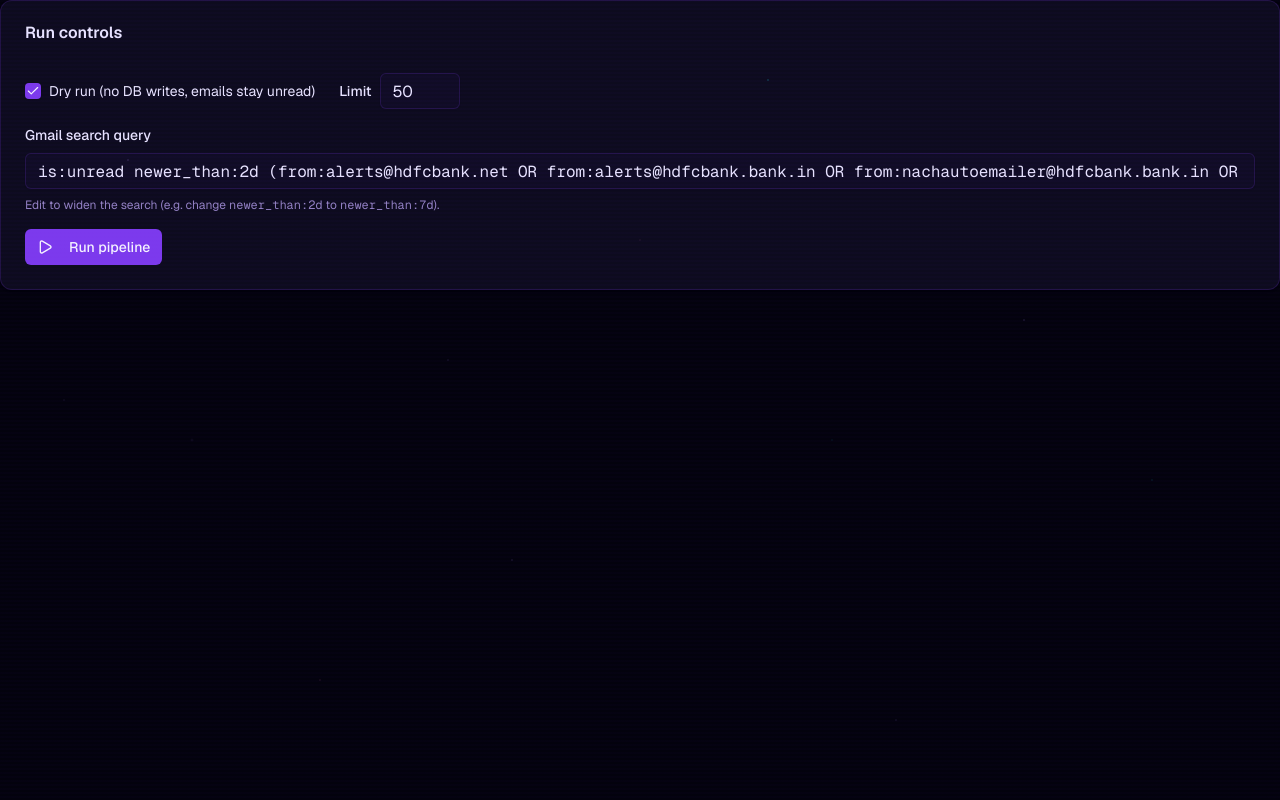
Test: DebugRunner › displays pipeline error when API returns non-OK
The width and height of the screenshot is (1280, 800).
Click the button "Run pipeline" at x=94, y=247, box 25,229 -> 162,265
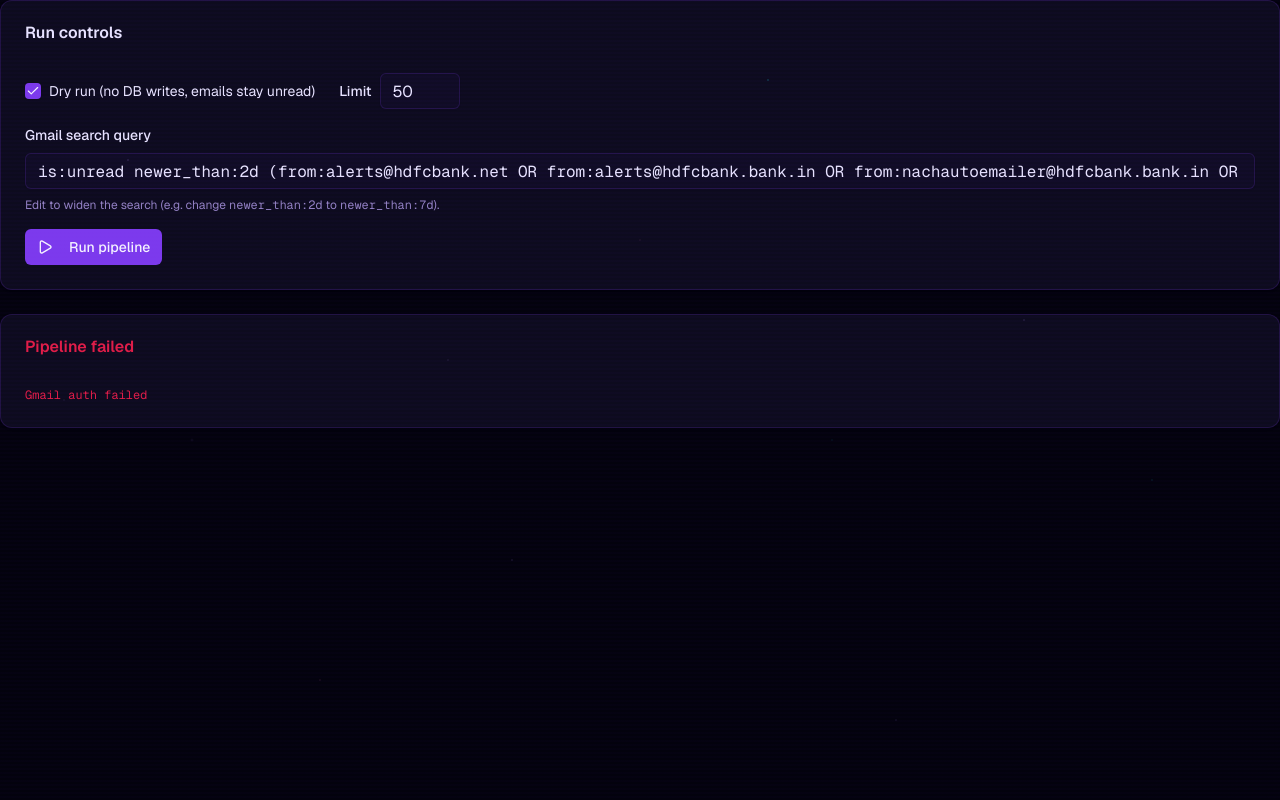
expect the text "Pipeline failed" is shown: met, box 25,336 -> 134,357
expect the text "Gmail auth failed" is shown: met, box 25,387 -> 147,403
